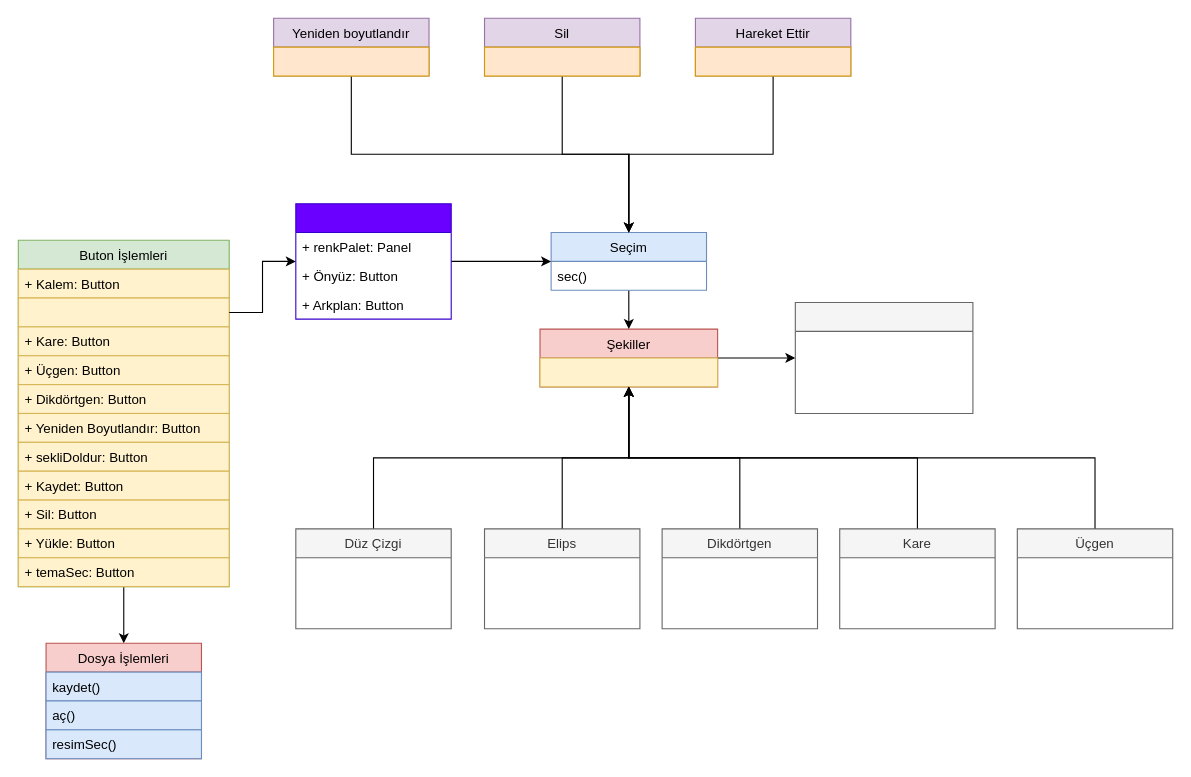
The diagram is 1191 pixels wide and 777 high, and some of its shapes have lost their labels. Here are the shapes that lost their labels. From the top down, the centre of each, then its label:
At (x=351, y=61): "yenidenBoyutlandir()".
At (x=561, y=61): "sil()".
At (x=772, y=61): "hareketEttir()".
At (x=373, y=261): "Renk seçimi".
At (x=123, y=312): "+ Elips: Button".
At (x=628, y=372): ".Çiz".
At (x=883, y=357): "Serbest Çizim".
